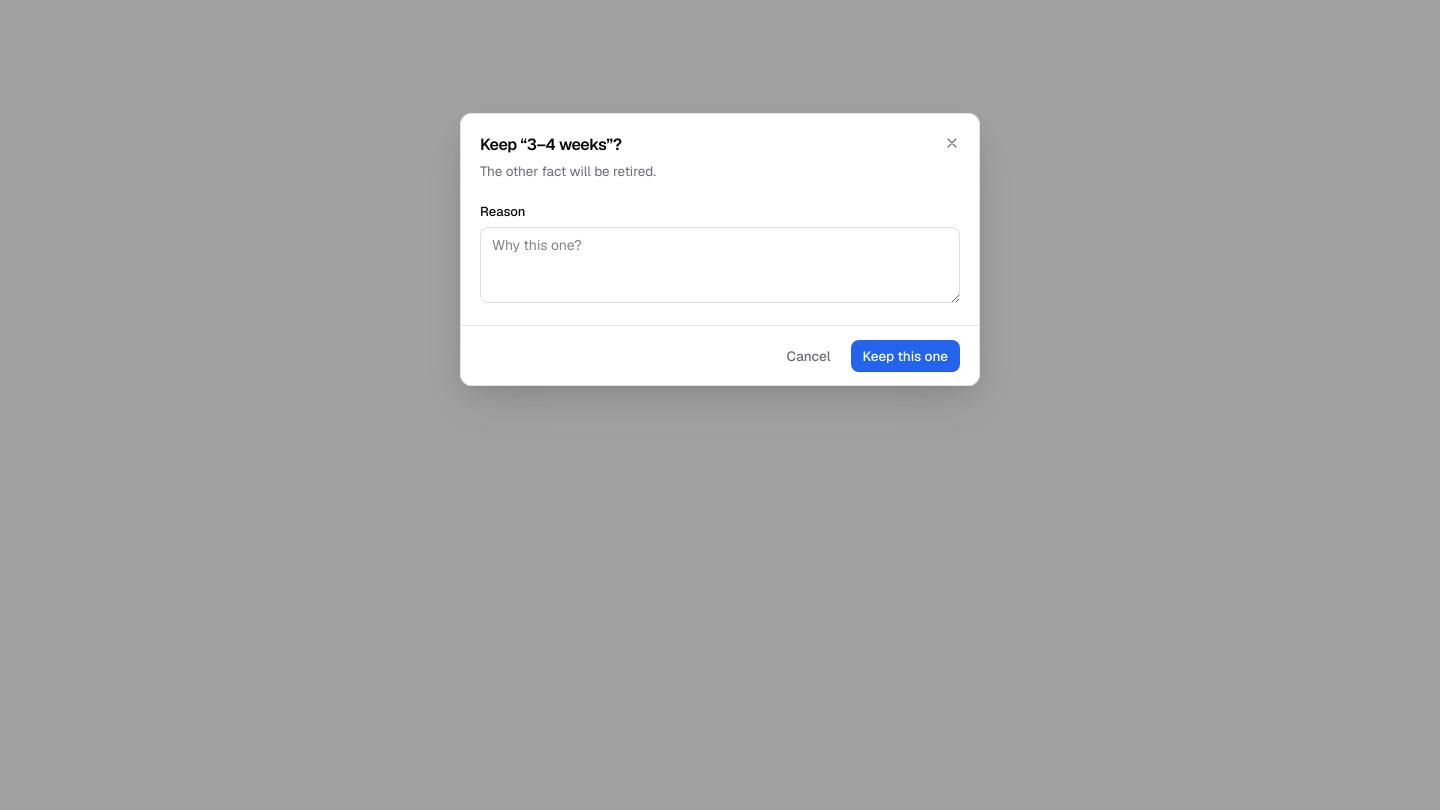
Test case: ReasonDialog › asks for a reason before submitting, and clears the error on typing
The width and height of the screenshot is (1440, 810).
Click the button "Keep this one": (905, 356) [850,340,960,372]
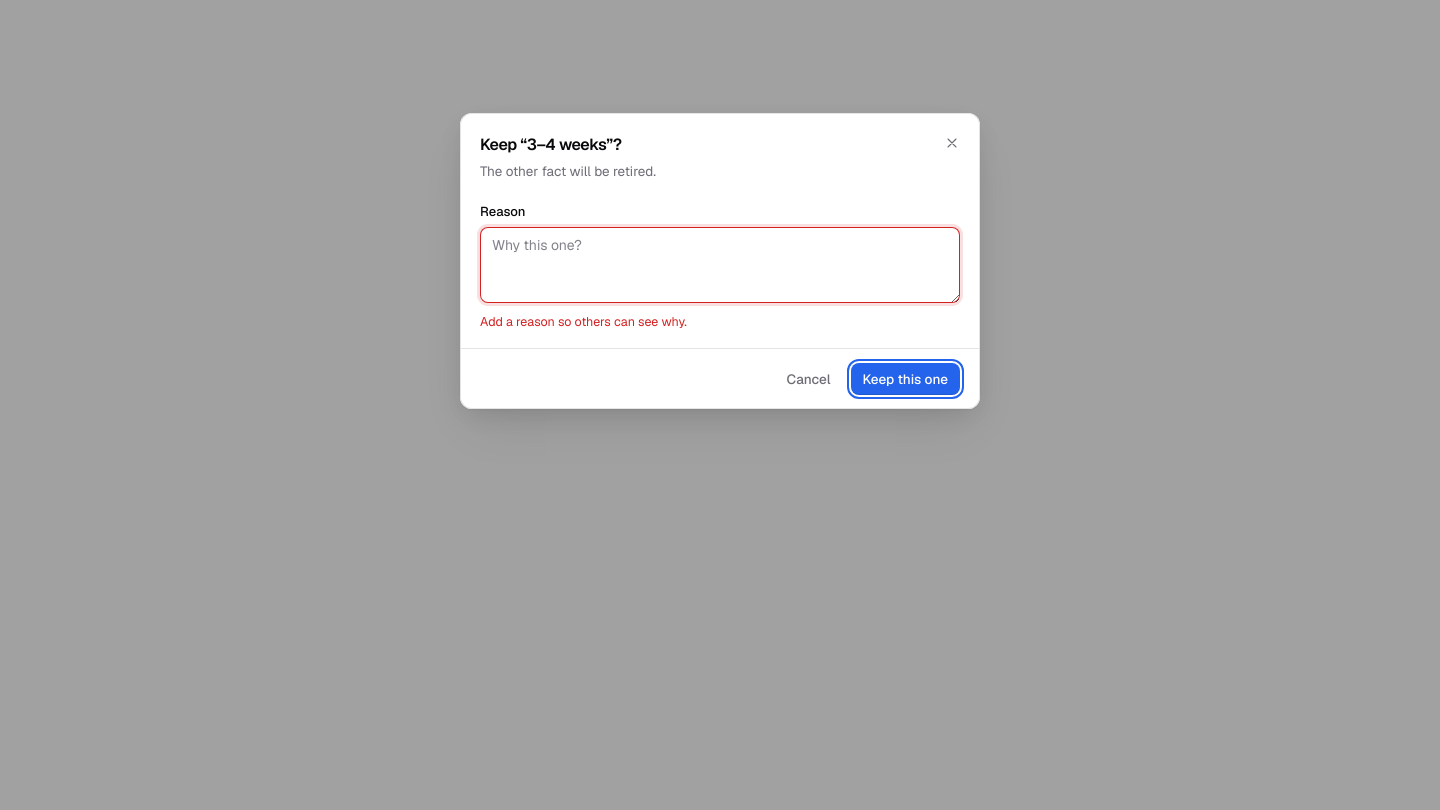
expect the text "Add a reason so others can see why." is shown: met, box [480,313,687,330]
In the text box labelled "Reason": (720, 265) [480,227,960,303], type "N"
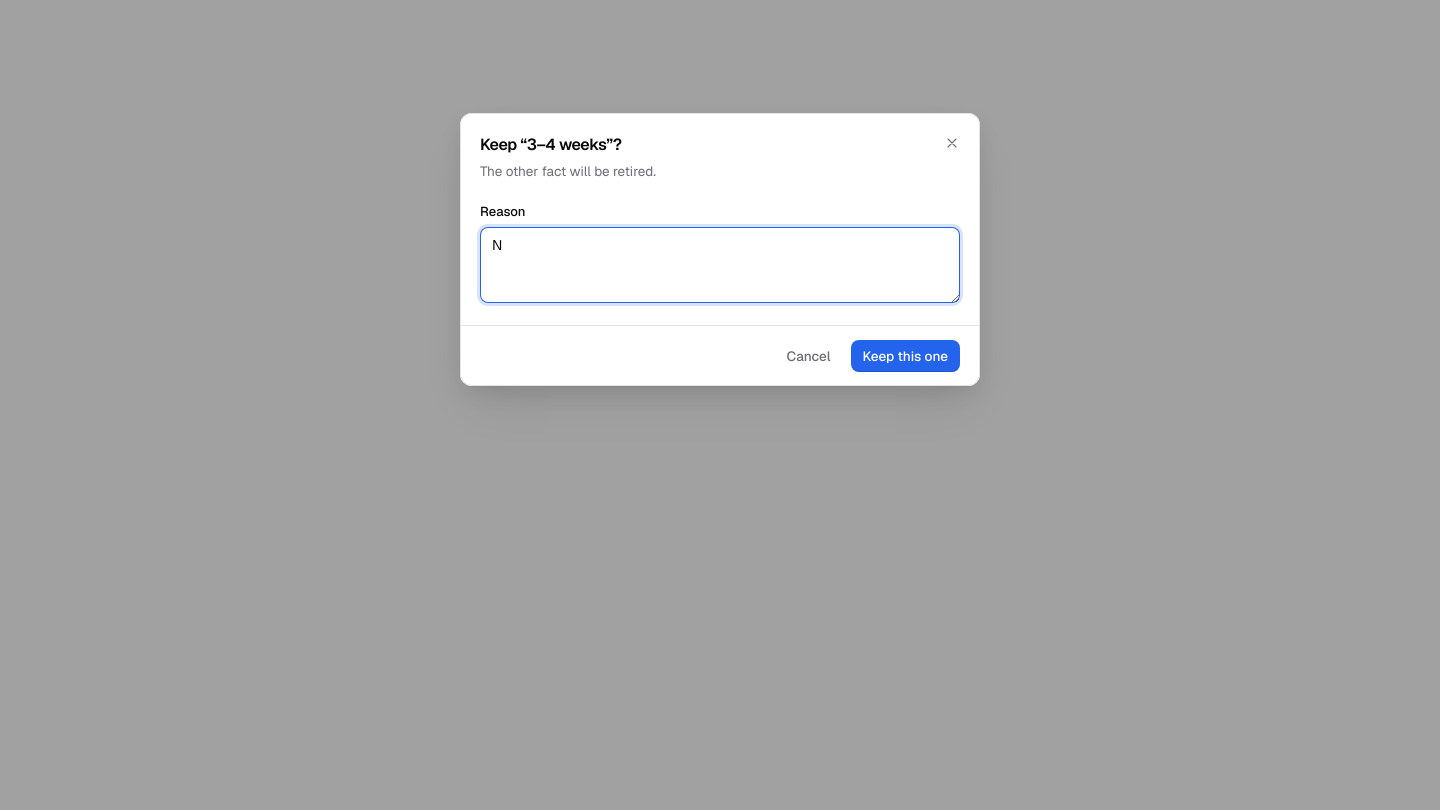
expect the text "Add a reason so others can see why." is gone: met
